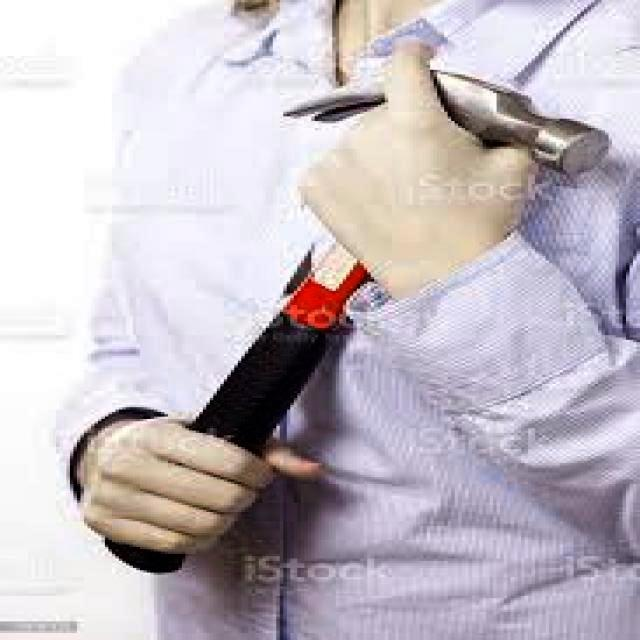hammer: (89, 70, 617, 582)
